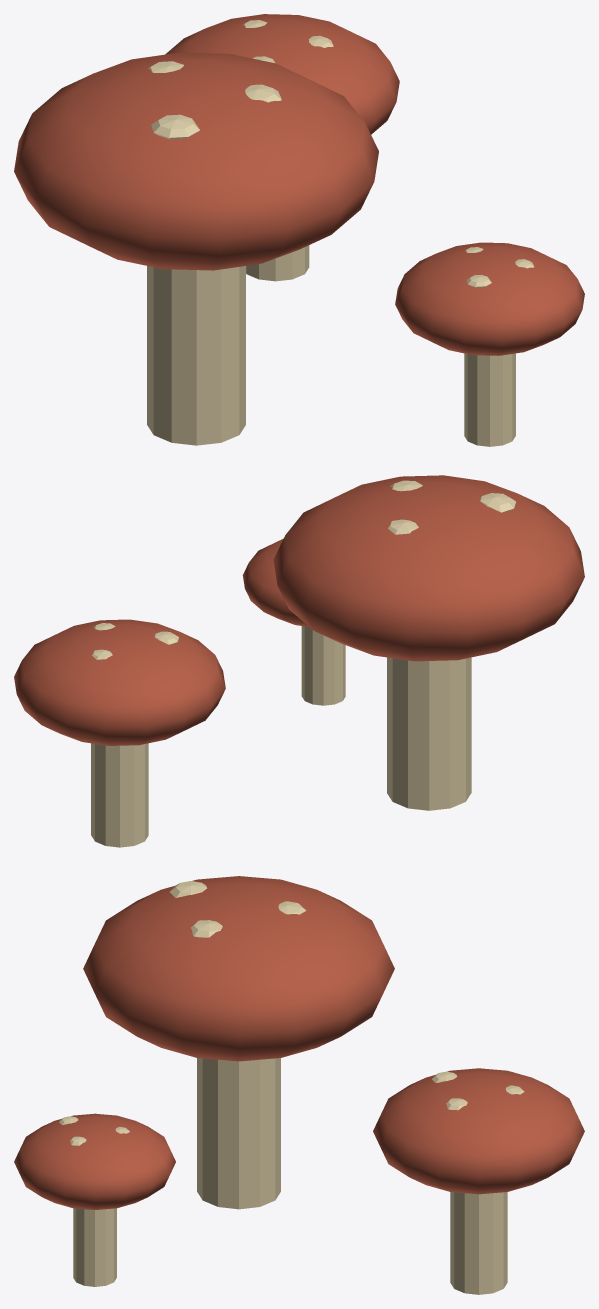
File: Mushrooms.glb
3 renders of one model, top to bottom at view 1: azimuth 30°, elevation 25°; view 2: azimuth 150°, elevation 25°; view 3: azimuth 270°, elevation 25°, orthographic. The views are drawn at different scales.
Parts seen in each view (by area): view 1: Mushroom 0 / ceramic cap, Mushroom 0 / stem, Mushroom 2 / ceramic cap, Mushroom 1 / ceramic cap, Mushroom 2 / stem, Mushroom 1 / stem, Mushroom 0 / painted spot; view 2: Mushroom 0 / ceramic cap, Mushroom 1 / ceramic cap, Mushroom 0 / stem, Mushroom 1 / stem, Mushroom 2 / stem, Mushroom 2 / ceramic cap, Mushroom 0 / painted spot; view 3: Mushroom 0 / ceramic cap, Mushroom 1 / ceramic cap, Mushroom 0 / stem, Mushroom 2 / ceramic cap, Mushroom 1 / stem, Mushroom 2 / stem.
Boxes of the visible parts, x1,y1,x2,y2 form: Mushroom 0 / ceramic cap: (14, 52, 378, 270); Mushroom 0 / stem: (147, 266, 245, 445); Mushroom 2 / ceramic cap: (395, 242, 584, 355); Mushroom 1 / ceramic cap: (165, 14, 399, 134); Mushroom 2 / stem: (464, 353, 515, 446); Mushroom 1 / stem: (246, 245, 309, 281); Mushroom 0 / painted spot: (151, 114, 199, 139); Mushroom 0 / ceramic cap: (273, 475, 584, 661); Mushroom 1 / ceramic cap: (14, 619, 225, 745); Mushroom 0 / stem: (387, 657, 471, 810); Mushroom 1 / stem: (91, 743, 148, 847); Mushroom 2 / stem: (301, 626, 345, 705); Mushroom 2 / ceramic cap: (242, 538, 308, 626); Mushroom 0 / painted spot: (480, 493, 515, 512); Mushroom 0 / ceramic cap: (83, 876, 394, 1061); Mushroom 1 / ceramic cap: (373, 1068, 584, 1194); Mushroom 0 / stem: (197, 1058, 280, 1209); Mushroom 2 / ceramic cap: (14, 1113, 175, 1209); Mushroom 1 / stem: (450, 1192, 507, 1294); Mushroom 2 / stem: (73, 1208, 116, 1286).
Size of the model in its own units: 0.3984 by 0.265 by 0.476.
